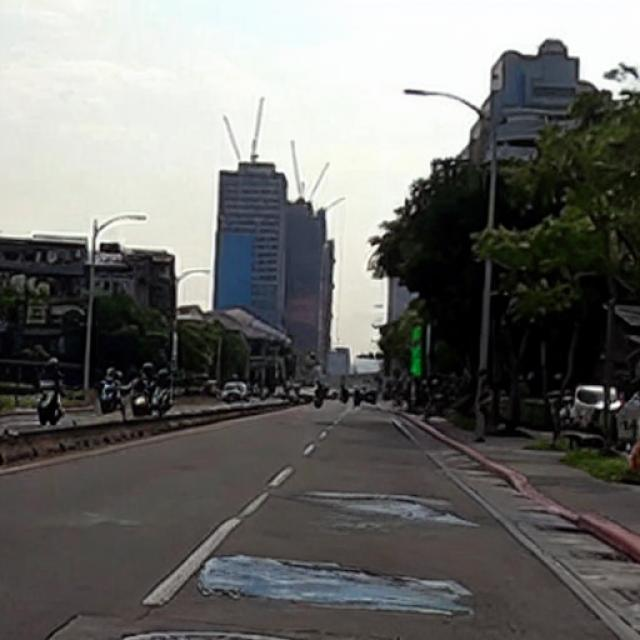puddle: (202, 552, 471, 617), (279, 488, 469, 528)
